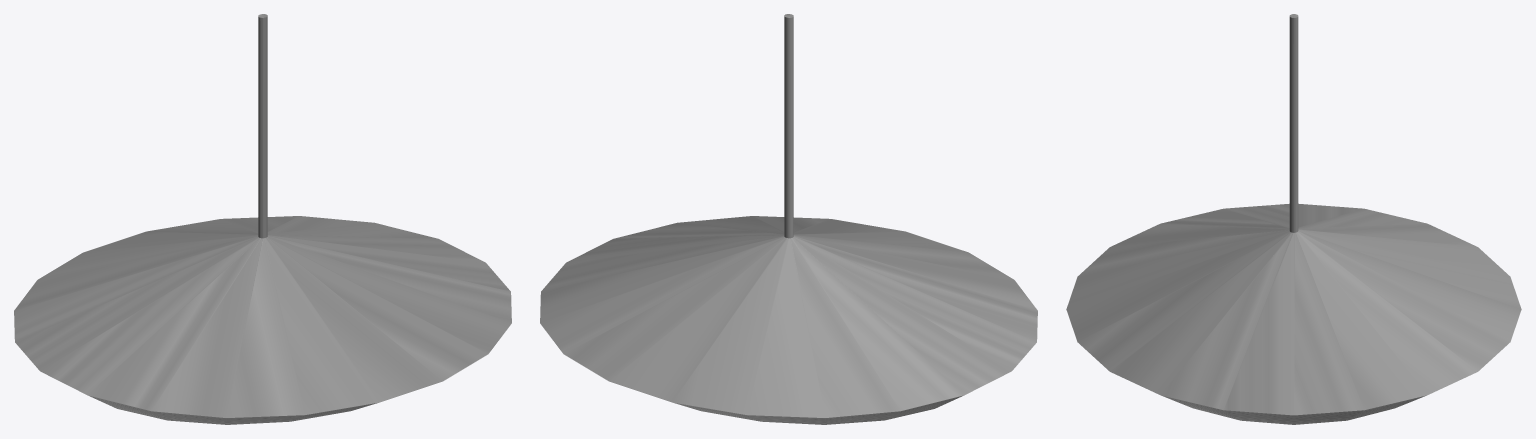
The model's file is hanglamp.fbx.
3 views of the same model, side by side, from view 1: azimuth 30°, elevation 25°; view 2: azimuth 150°, elevation 25°; view 3: azimuth 270°, elevation 25° (orthographic). The views are drawn at different scales.
Parts seen in each view (by area): view 1: HangLight; view 2: HangLight; view 3: HangLight.
Boxes of the visible parts, x1,y1,x2,y2 form: HangLight: (14,14,511,424); HangLight: (540,14,1037,424); HangLight: (1066,14,1521,424).
Size of the model in its own units: 3.41 by 2.42 by 3.09.
1 material, 1 textured.
